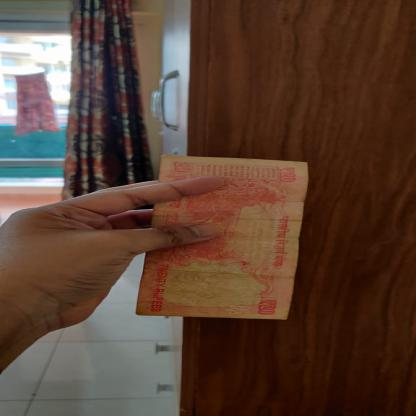Old20Back: (135, 154, 308, 320)
